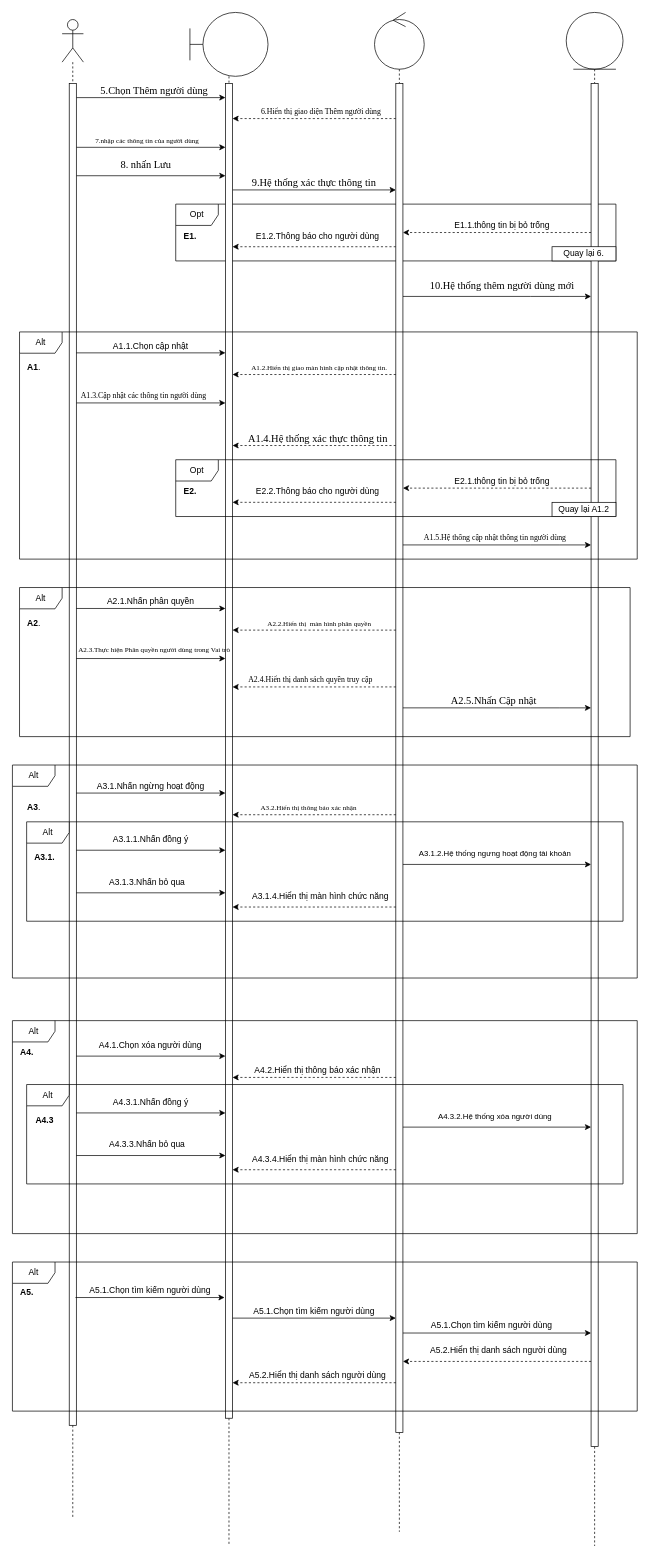
Some shapes in this 650 by 1559 pixel diagram are drawn without their labels. The shapes that lost their labels are listed below. From the top down, each one's box as (x1, y1, x2, y2) in pixels, then its label:
(61, 19, 83, 62): Actor
(189, 12, 268, 76): quản lý tài khoản
(374, 12, 424, 69): Xử lý
(566, 12, 623, 69): database
